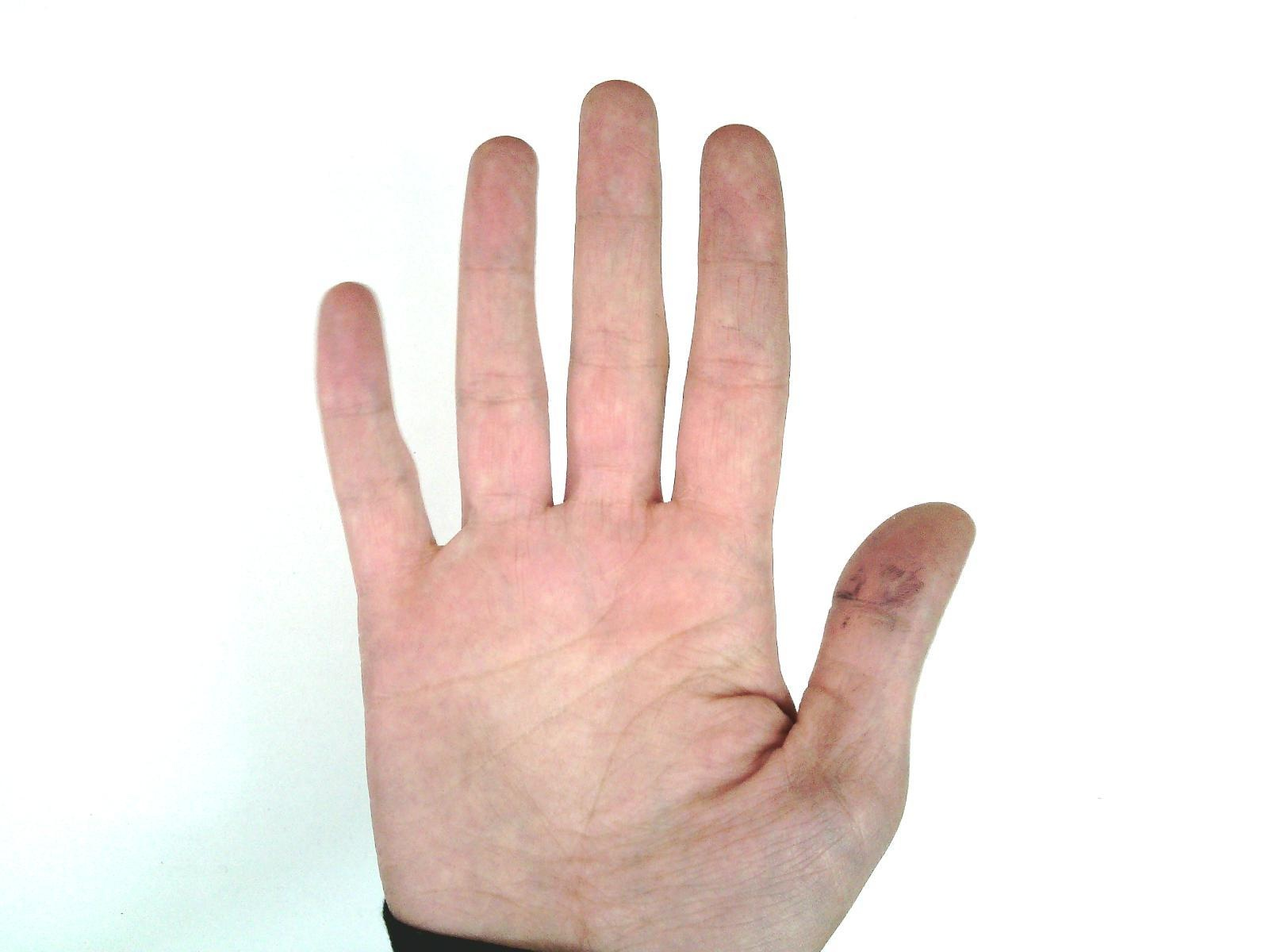open_palm: (309, 79, 979, 951)
